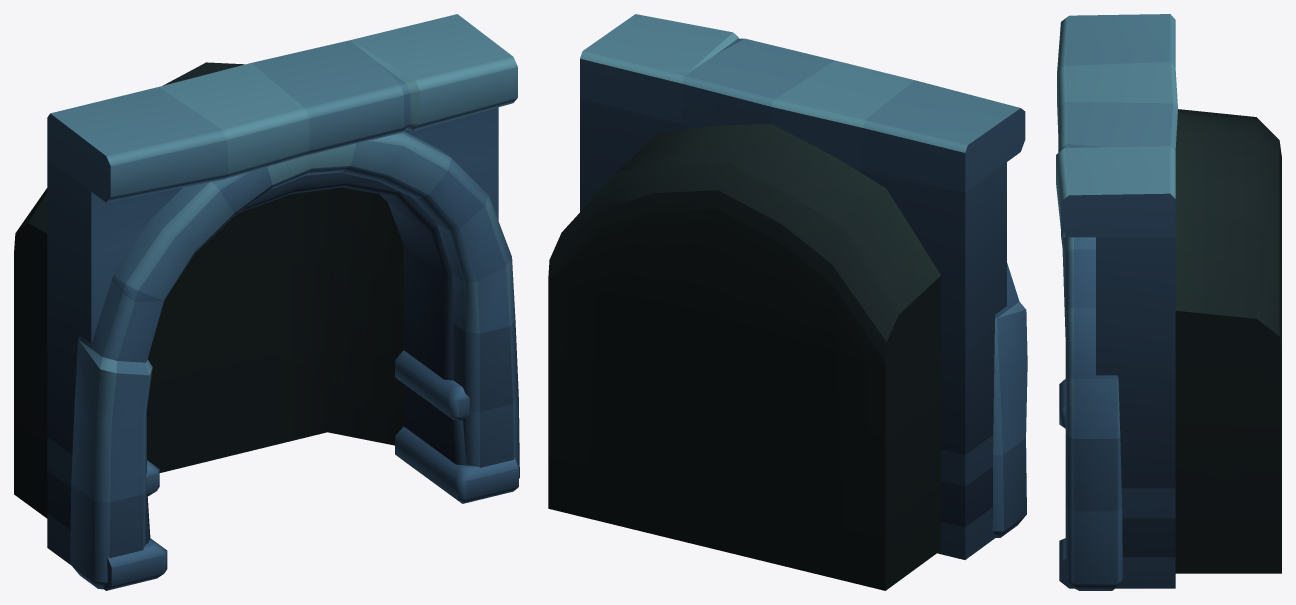
The model's file is doorway_level_to_level.fbx.
3 renders of one model, left to right at view 1: azimuth 30°, elevation 25°; view 2: azimuth 150°, elevation 25°; view 3: azimuth 270°, elevation 25°, orthographic. The views are drawn at different scales.
Parts seen in each view (by area): view 1: doorway_level_to_level; view 2: doorway_level_to_level; view 3: doorway_level_to_level.
Boxes of the visible parts, x1,y1,x2,y2 form: doorway_level_to_level: (14,14,519,590); doorway_level_to_level: (548,14,1027,590); doorway_level_to_level: (1056,14,1281,590).
Size of the model in its own units: 418 by 412 by 212.
